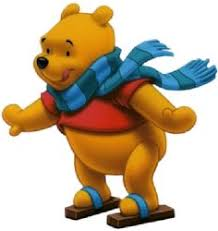Winnie: (25, 4, 145, 132)
